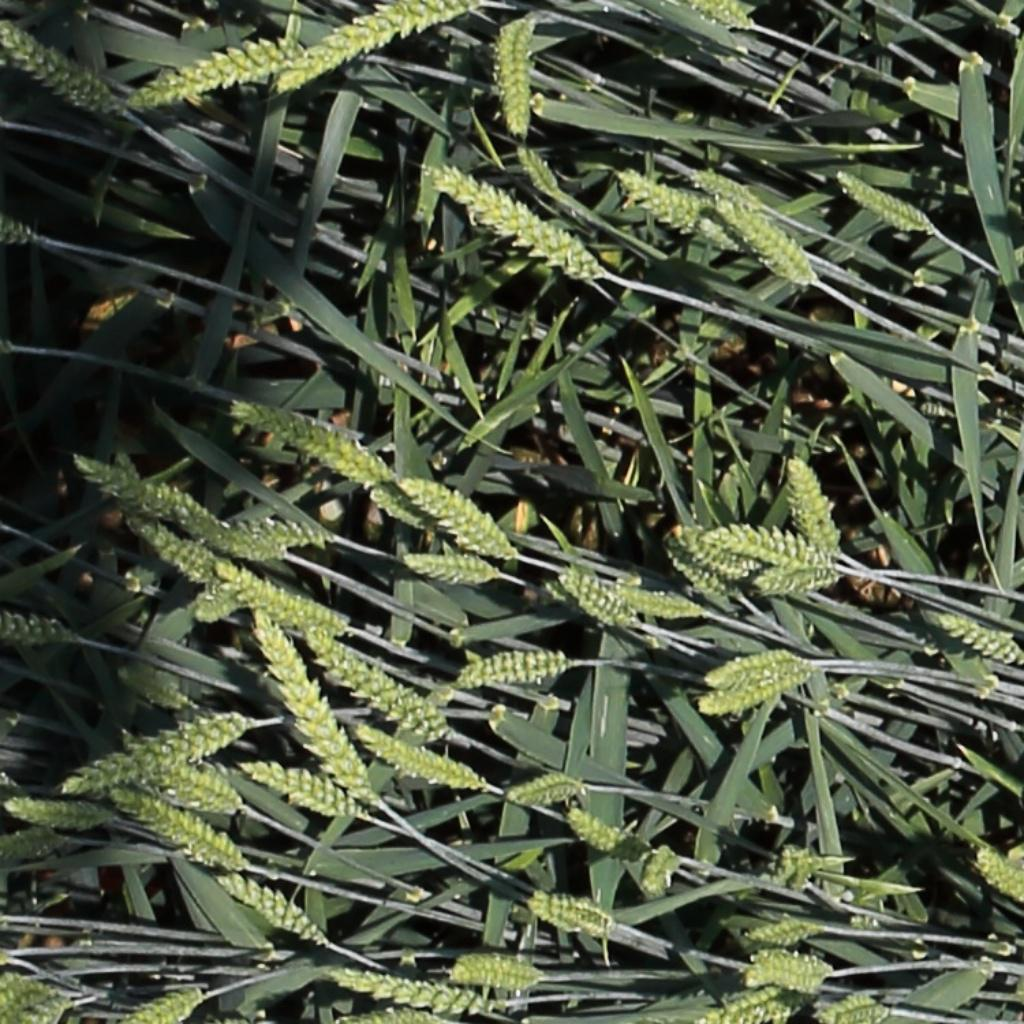0-0: (252, 604, 374, 808), (425, 156, 611, 284), (76, 445, 278, 561), (274, 0, 482, 96), (57, 704, 254, 797), (118, 30, 330, 112), (299, 630, 442, 735), (229, 402, 389, 484), (117, 729, 244, 813), (203, 562, 344, 633), (2, 21, 111, 110), (120, 793, 237, 873), (718, 197, 812, 283), (398, 476, 503, 551), (352, 729, 477, 790), (215, 872, 320, 944), (330, 969, 492, 1015), (834, 167, 943, 235), (479, 15, 533, 140), (240, 763, 356, 819), (128, 520, 224, 583), (148, 804, 241, 869), (782, 451, 839, 557), (614, 170, 704, 234), (698, 668, 804, 717), (701, 522, 818, 565), (662, 539, 730, 608), (554, 569, 632, 628), (936, 614, 1024, 666), (457, 645, 571, 685), (562, 809, 645, 861), (705, 649, 812, 689), (673, 527, 752, 580), (745, 950, 837, 991), (0, 790, 107, 824), (398, 554, 503, 588), (531, 887, 608, 933), (509, 135, 561, 203), (450, 951, 546, 986), (114, 669, 187, 712), (686, 167, 759, 208), (2, 991, 92, 1024), (973, 851, 1024, 909), (233, 521, 328, 552), (610, 588, 705, 618), (503, 772, 585, 805), (773, 840, 823, 893), (125, 988, 202, 1022), (365, 484, 424, 528), (637, 843, 683, 899), (752, 563, 840, 592), (819, 992, 886, 1024), (693, 215, 745, 252), (704, 1000, 791, 1022), (0, 618, 76, 643), (693, 0, 755, 29), (1, 832, 55, 858), (746, 924, 813, 944), (0, 214, 35, 243)
